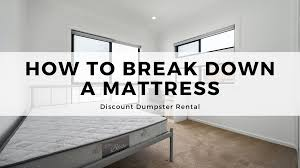bed-matress: (1, 101, 171, 168)
